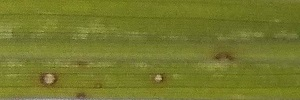RiceBlast: (210, 47, 236, 69), (39, 69, 63, 91), (151, 71, 169, 88)
